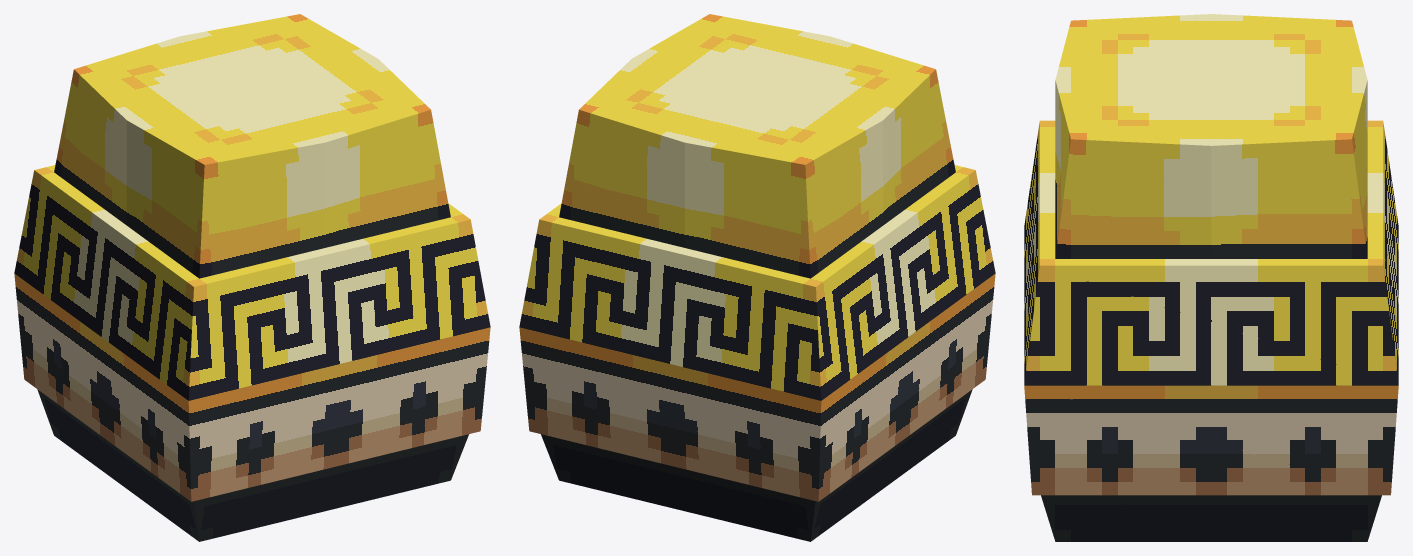
File: greek-egg.gltf
3 views of the same model, side by side, from view 1: azimuth 30°, elevation 25°; view 2: azimuth 150°, elevation 25°; view 3: azimuth 270°, elevation 25° (orthographic). The views are drawn at different scales.
Visible parts, largest first — view 1: cube (×3); view 2: cube (×3); view 3: cube (×3).
Boxes of the visible parts, bbox=[...] form: cube (×3): bbox=[14, 14, 490, 541]; cube (×3): bbox=[519, 14, 995, 541]; cube (×3): bbox=[1024, 14, 1398, 541].
Bounding box in the file's own units: 0.75 × 0.875 × 0.75.
Materials: 1 (1 with a texture image).
